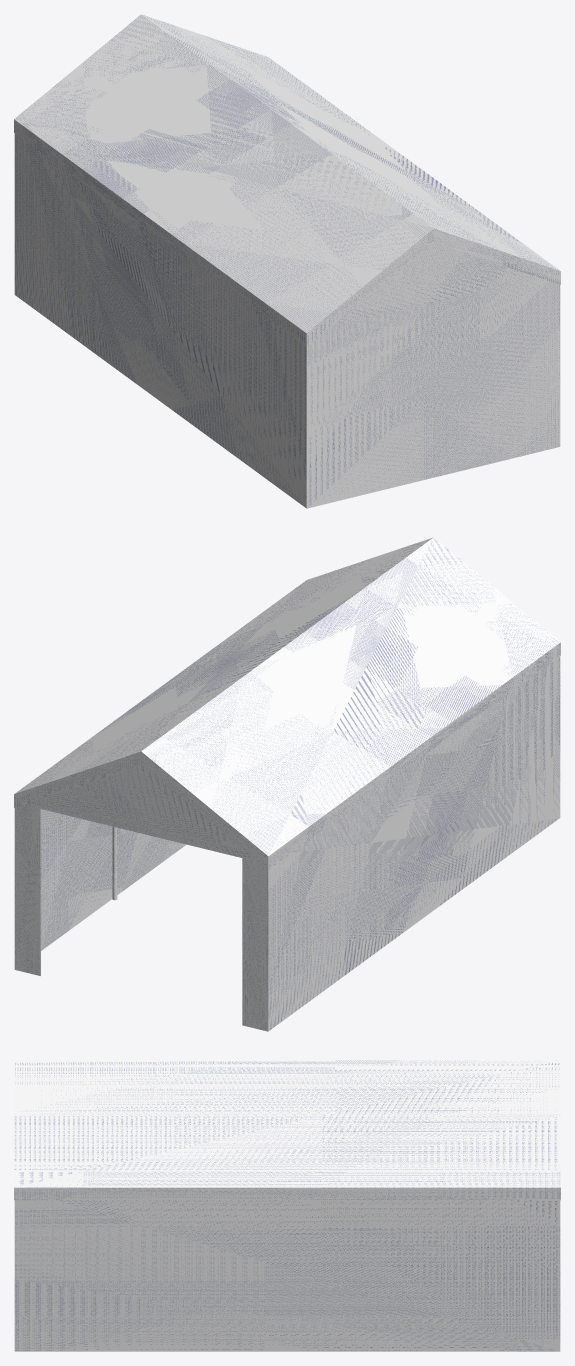
Rendered from carport.dae.
3 renders of one model, top to bottom at view 1: azimuth 30°, elevation 25°; view 2: azimuth 150°, elevation 25°; view 3: azimuth 270°, elevation 25°, orthographic. The views are drawn at different scales.
Visible parts, largest first — view 1: Car_Port_Roof, Car_Port_End_Panel_Solid, Car_Port_Sidewall_Two; view 2: Car_Port_Roof, Car_Port_Sidewall_Two, Car_Port_End_Door, Car_Port_Sidewall_One; view 3: Car_Port_Sidewall_One, Car_Port_Roof.
Part boxes in pixels (x1,y1,x2,y2): Car_Port_Roof: [14, 14, 560, 346]; Car_Port_End_Panel_Solid: [307, 242, 559, 508]; Car_Port_Sidewall_Two: [14, 133, 307, 508]; Car_Port_Roof: [14, 537, 560, 869]; Car_Port_Sidewall_Two: [267, 656, 560, 1031]; Car_Port_End_Door: [15, 765, 267, 1031]; Car_Port_Sidewall_One: [14, 808, 186, 969]; Car_Port_Sidewall_One: [14, 1200, 560, 1351]; Car_Port_Roof: [14, 1060, 560, 1200].
Size of the model in its own units: 121 by 241 by 113.
